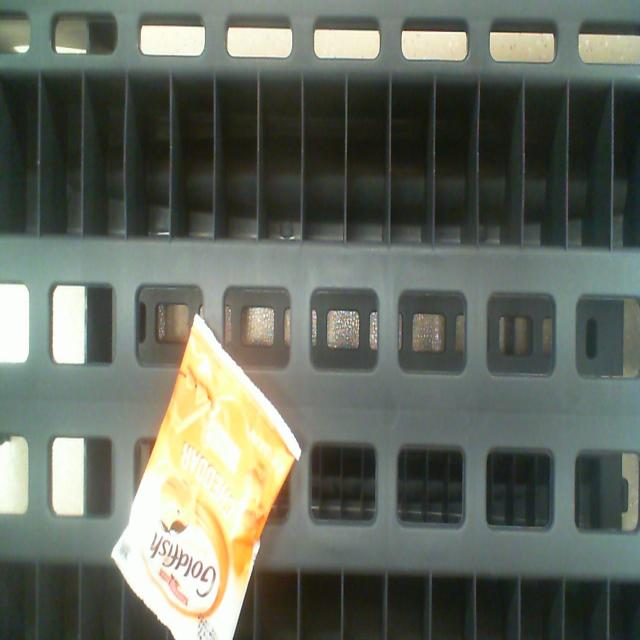snack: (114, 313, 300, 640)
